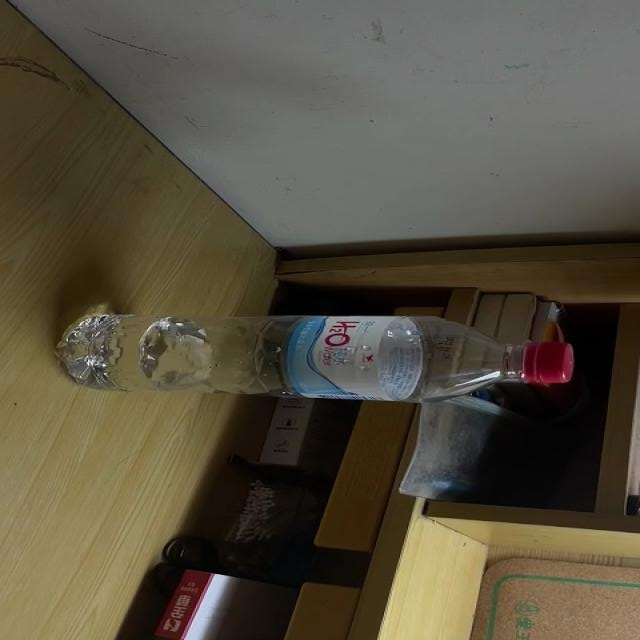Water: (56, 312, 576, 401)
